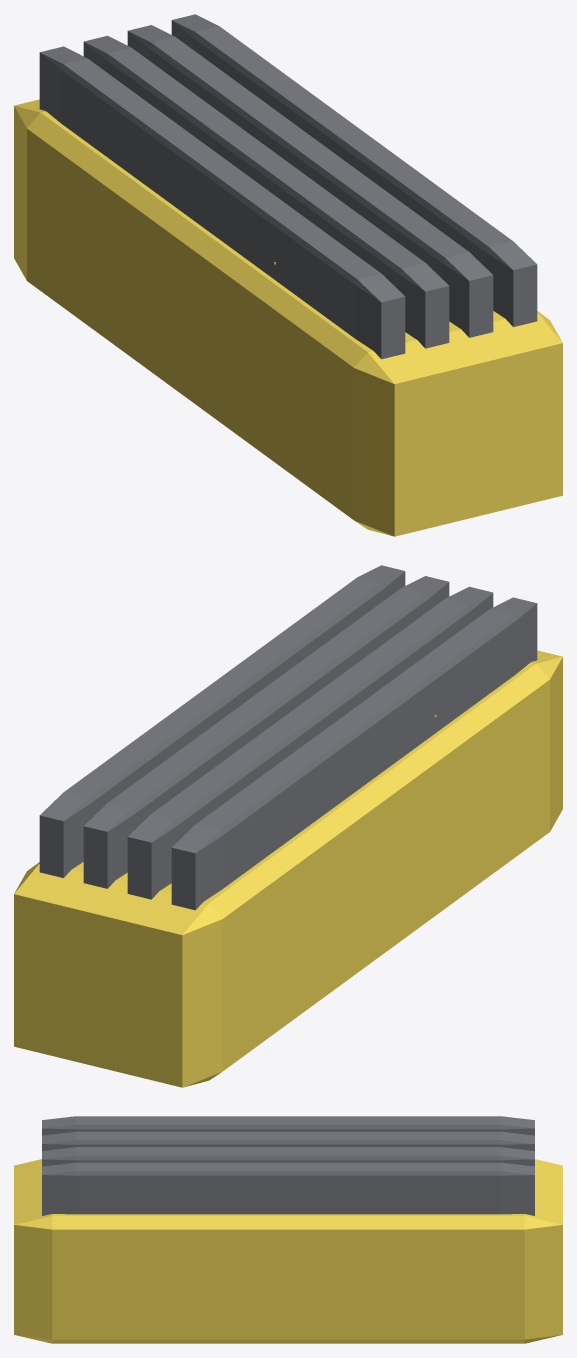
File: b14_expandable_roller_conveyor.glb
3 views of the same model, one above another, from view 1: azimuth 30°, elevation 25°; view 2: azimuth 150°, elevation 25°; view 3: azimuth 270°, elevation 25° (orthographic). The views are drawn at different scales.
Visible parts, largest first — view 1: b14_expandable_roller_conveyor; view 2: b14_expandable_roller_conveyor; view 3: b14_expandable_roller_conveyor.
Boxes of the visible parts, box(x1,y1,x2,y2) form: b14_expandable_roller_conveyor: box(14, 14, 562, 536); b14_expandable_roller_conveyor: box(14, 565, 562, 1087); b14_expandable_roller_conveyor: box(14, 1116, 562, 1343).
Size of the model in its own units: 0.876 by 1.01 by 2.95.
